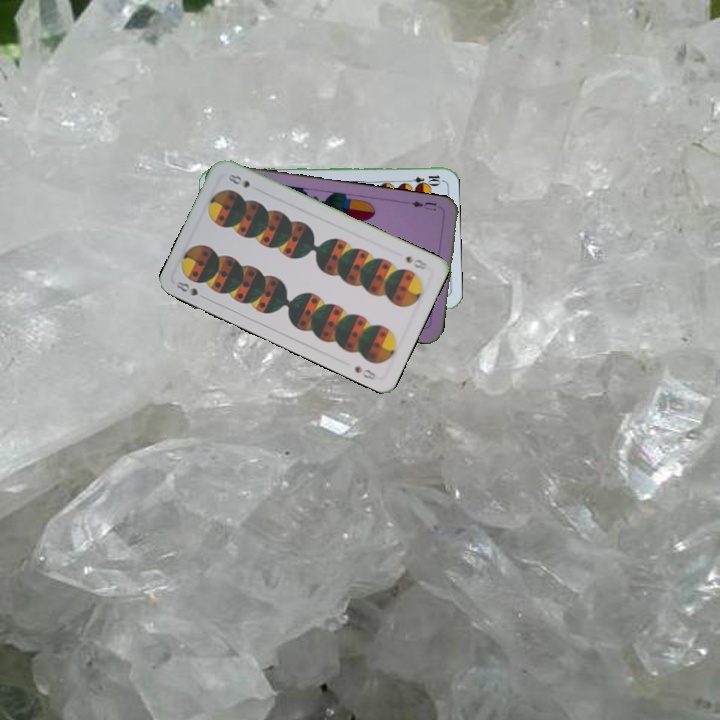E10: (402, 171, 443, 186)
EU: (407, 197, 439, 213)
S8: (172, 277, 210, 302), (402, 252, 430, 272)
